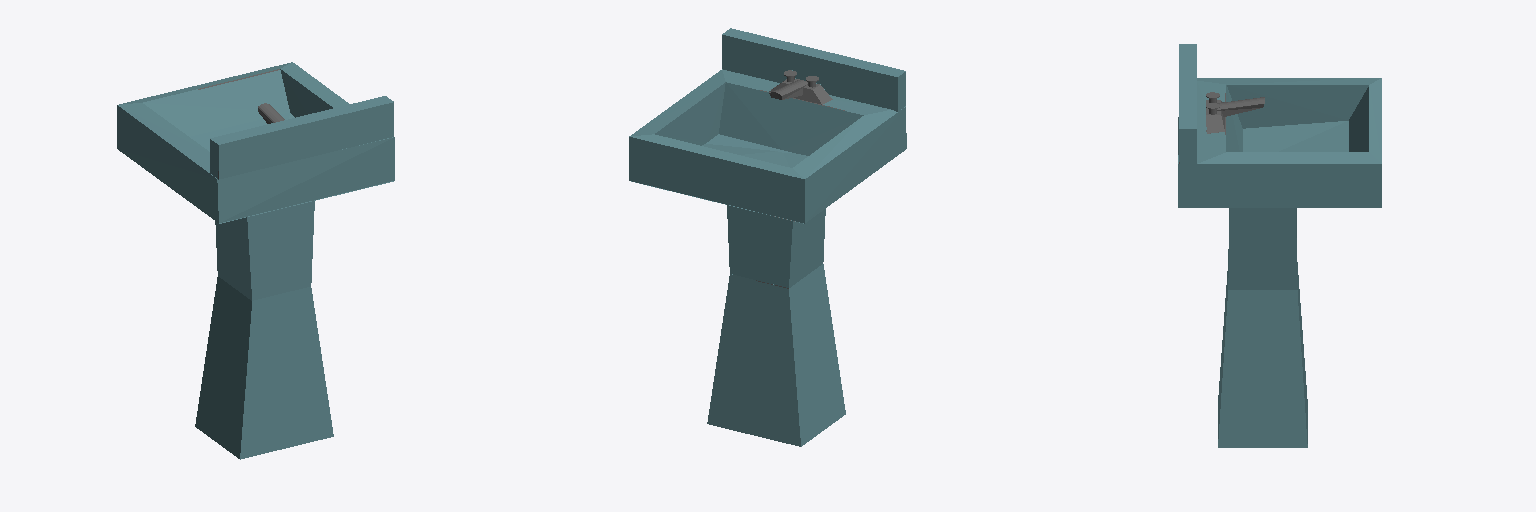
3 views of the same model, side by side, from view 1: azimuth 30°, elevation 25°; view 2: azimuth 150°, elevation 25°; view 3: azimuth 270°, elevation 25° (orthographic).
Parts seen in each view (by area): view 1: Cube.007_Cube.022; view 2: Cube.007_Cube.022; view 3: Cube.007_Cube.022.
Boxes of the visible parts, x1,y1,x2,y2 form: Cube.007_Cube.022: [117, 62, 394, 459]; Cube.007_Cube.022: [629, 28, 906, 446]; Cube.007_Cube.022: [1178, 44, 1381, 447].
Bounding box in the file's own units: 6 × 11 × 6.
1 materials, 1 textured.